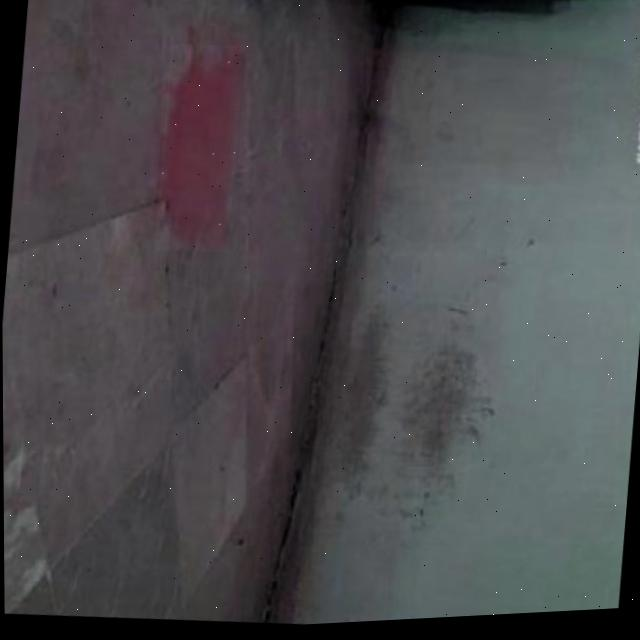spillage: (158, 46, 240, 253)
